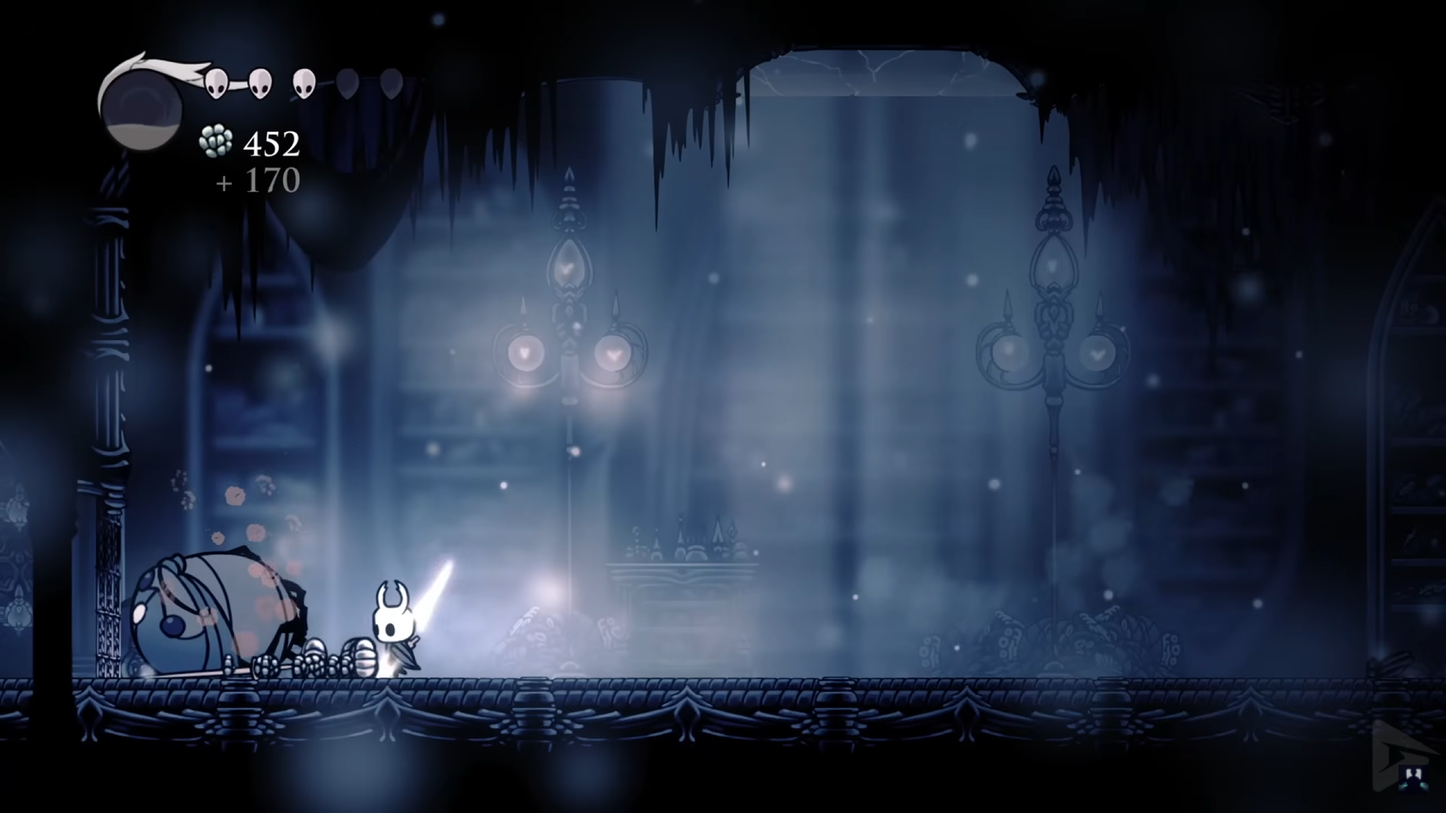HK: (367, 577, 429, 677)
